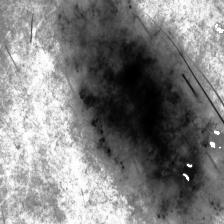Benign Marking or Mole: (53, 0, 224, 224)
